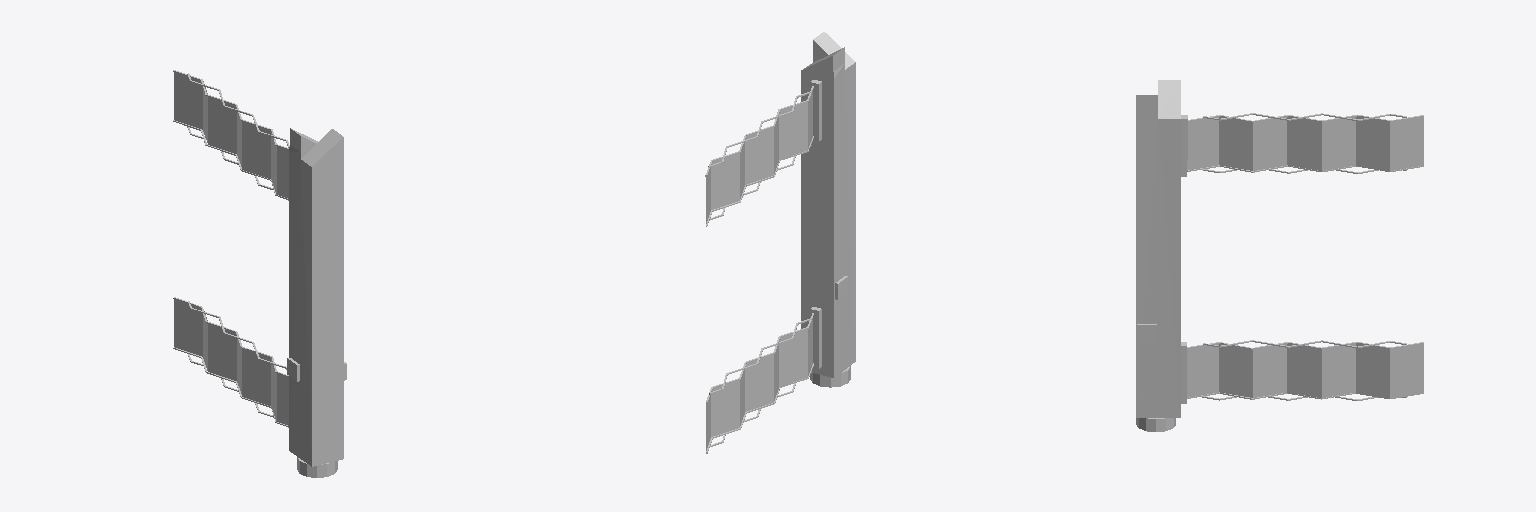
Rendered from ISS_SolarTruss.obj.
3 views of the same model, side by side, from view 1: azimuth 30°, elevation 25°; view 2: azimuth 150°, elevation 25°; view 3: azimuth 270°, elevation 25° (orthographic).
Parts seen in each view (by area): view 1: ISS_SolarTruss; view 2: ISS_SolarTruss; view 3: ISS_SolarTruss.
Part boxes in pixels (x1,y1,x2,y2): ISS_SolarTruss: (173, 70, 346, 477); ISS_SolarTruss: (705, 32, 855, 453); ISS_SolarTruss: (1136, 80, 1423, 431).
Bounding box in the file's own units: 2.78 × 22.89 × 17.78.